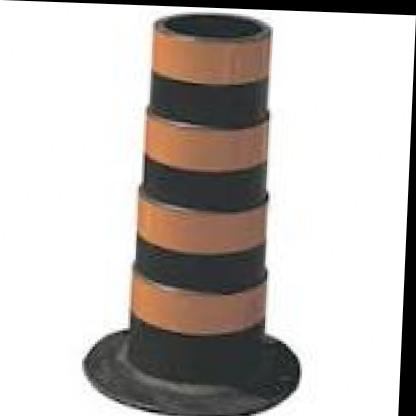obstacle: (131, 9, 286, 385)
